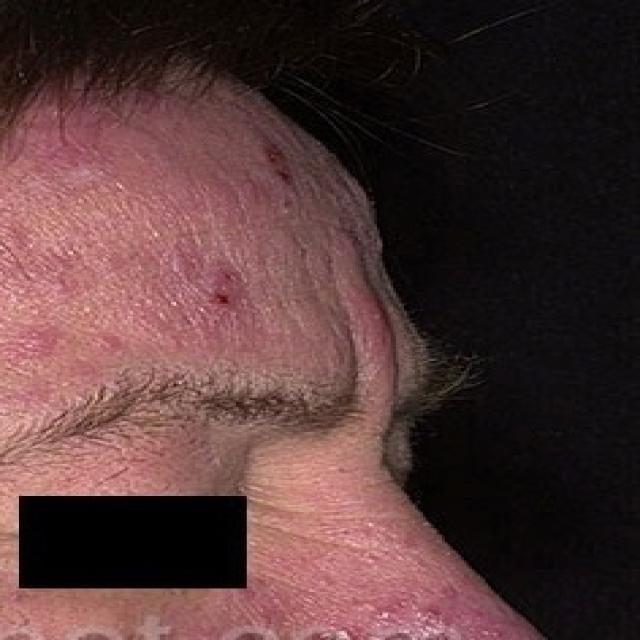Rosacea: (8, 198, 249, 374)
